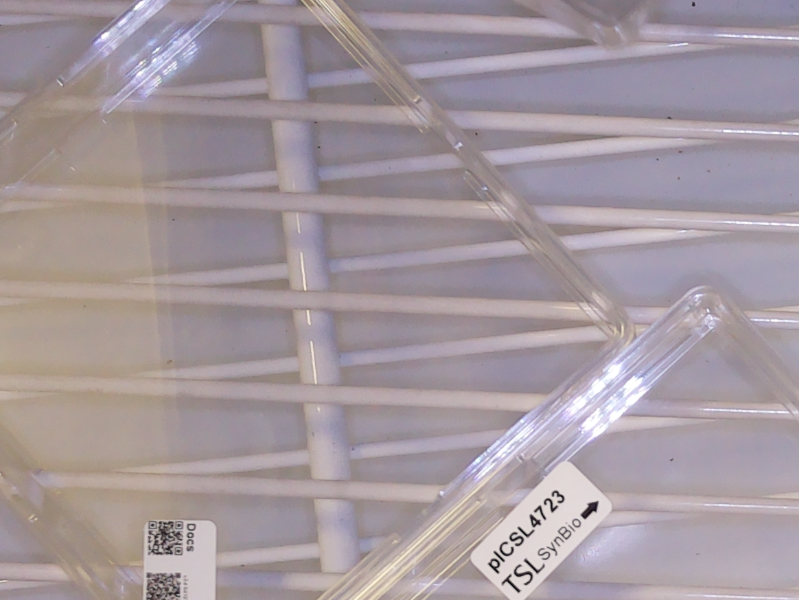plate: (1, 1, 635, 600), (306, 284, 799, 600), (513, 1, 654, 49)
